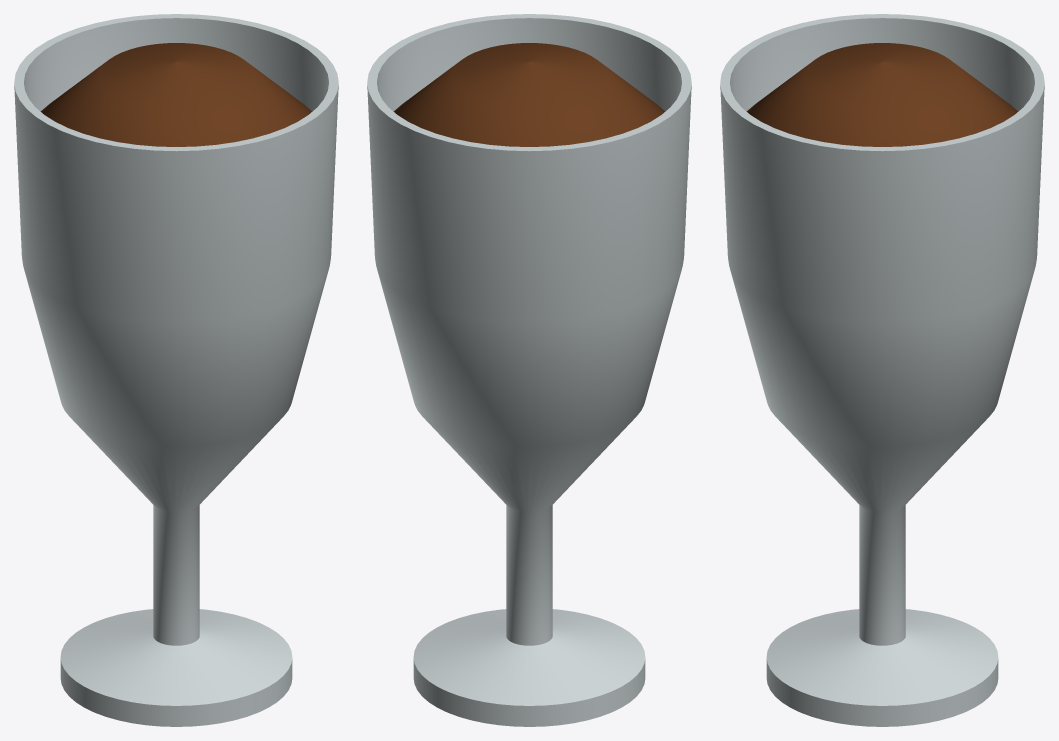
The model's file is cremoso-cafe.glb.
The picture shows the model from 3 angles, left to right: view 1: azimuth 30°, elevation 25°; view 2: azimuth 150°, elevation 25°; view 3: azimuth 270°, elevation 25°; orthographic projection.
Parts seen in each view (by area): view 1: cremoso-cafe; view 2: cremoso-cafe; view 3: cremoso-cafe.
Part boxes in pixels (x1=…): cremoso-cafe: x1=14, y1=14, x2=338, y2=726; cremoso-cafe: x1=367, y1=14, x2=691, y2=726; cremoso-cafe: x1=720, y1=14, x2=1044, y2=726.
Size of the model in its own units: 0.084 by 0.176 by 0.084.
